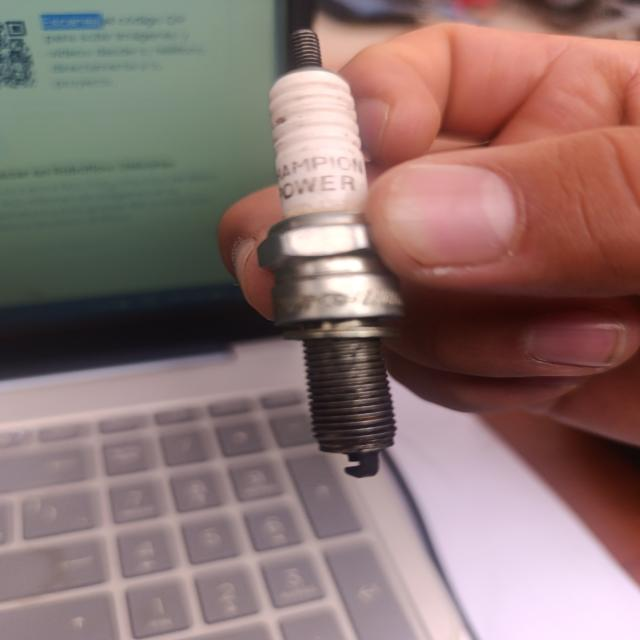bujia: (258, 28, 403, 477)
